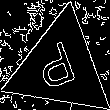P_S: (35, 37, 85, 98)
